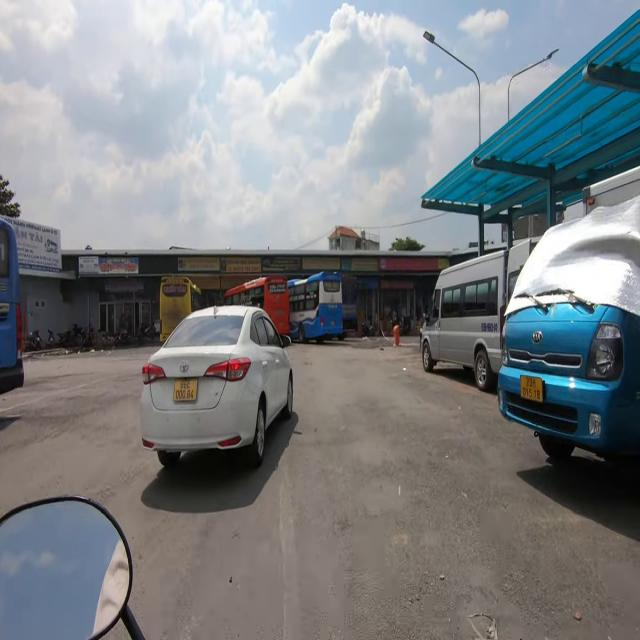bien_vang: (520, 375, 543, 405), (173, 378, 197, 402)
